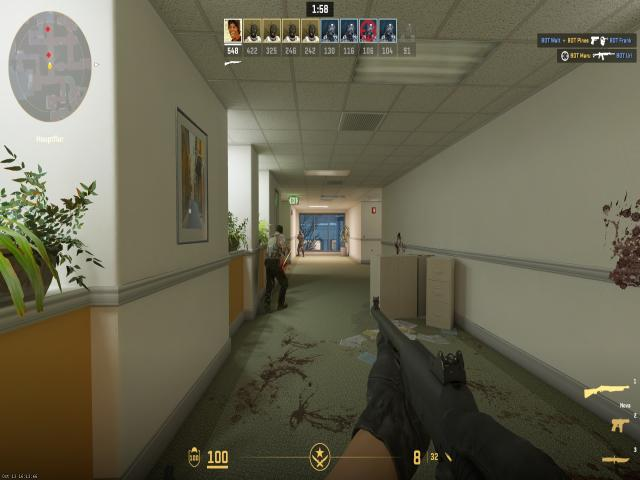CT: (296, 230, 306, 254)
CT-Head: (299, 230, 303, 237)
T: (268, 225, 286, 305)
T-Head: (274, 225, 284, 234)
